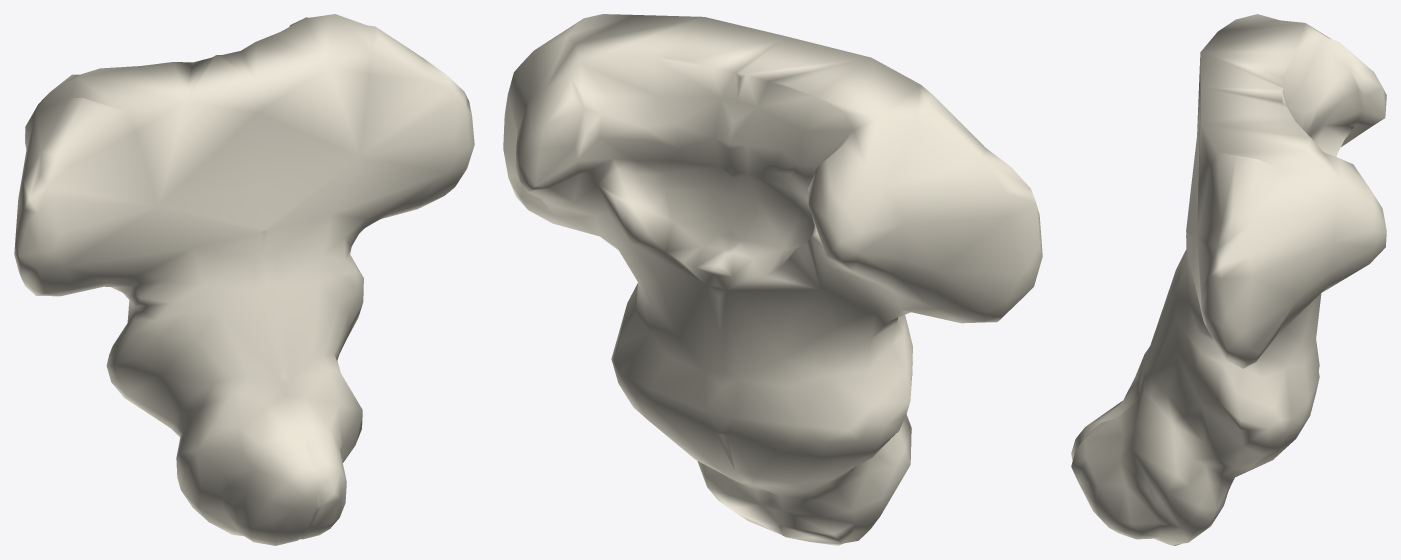
3 views of the same model, side by side, from view 1: azimuth 30°, elevation 25°; view 2: azimuth 150°, elevation 25°; view 3: azimuth 270°, elevation 25° (orthographic). The views are drawn at different scales.
Parts seen in each view (by area): view 1: ZA_fc72af7213568880; view 2: ZA_fc72af7213568880; view 3: ZA_fc72af7213568880.
Boxes of the visible parts, box(x1,y1,x2,y2) form: ZA_fc72af7213568880: box(14, 14, 474, 545); ZA_fc72af7213568880: box(503, 14, 1042, 545); ZA_fc72af7213568880: box(1071, 14, 1386, 545).
Size of the model in its own units: 0.0335 by 0.0308 by 0.0197.
